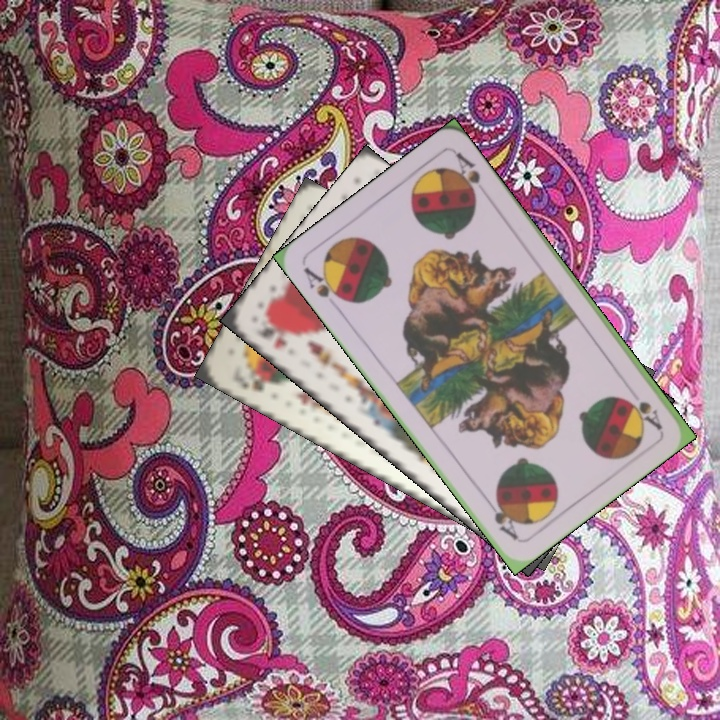HK: (253, 322, 291, 351)
SA: (299, 262, 349, 305), (624, 395, 665, 432)
SK: (238, 370, 280, 395)
